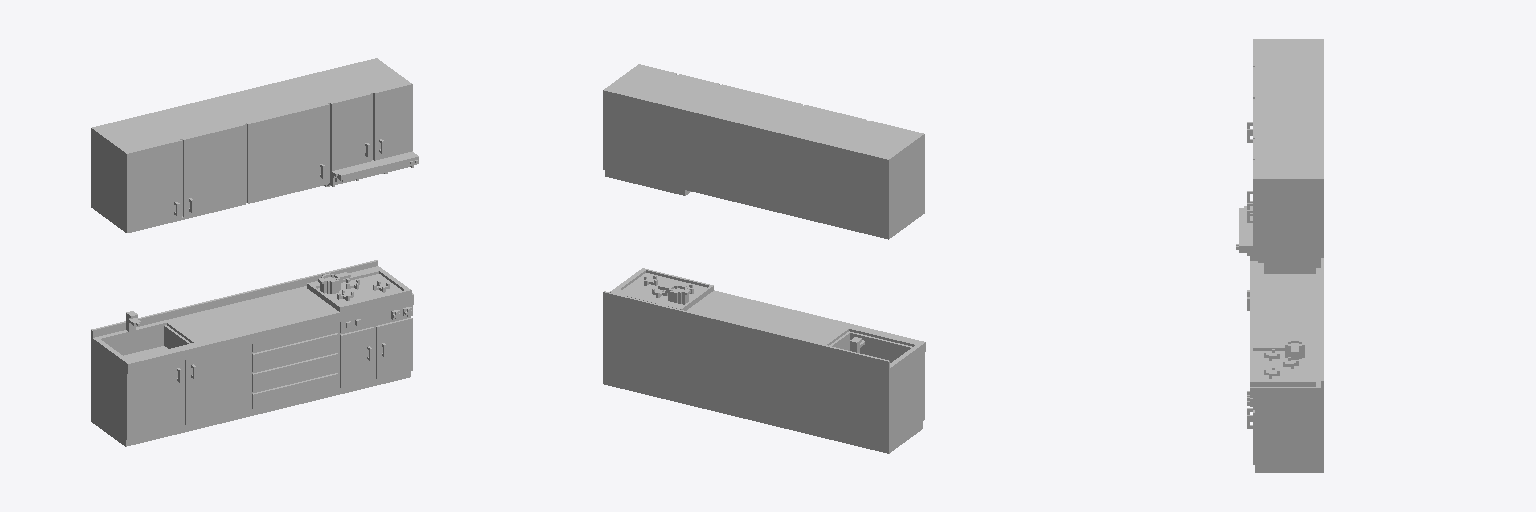
Rendered from kitchen.obj.
The picture shows the model from 3 angles: view 1: azimuth 30°, elevation 25°; view 2: azimuth 150°, elevation 25°; view 3: azimuth 270°, elevation 25°; orthographic projection.
Parts seen in each view (by area): view 1: object 1; view 2: object 1; view 3: object 1.
Boxes of the visible parts, x1,y1,x2,y2 form: object 1: [91, 58, 418, 446]; object 1: [603, 64, 925, 453]; object 1: [1236, 39, 1323, 472].
Size of the model in its own units: 12 by 11.8 by 3.2.